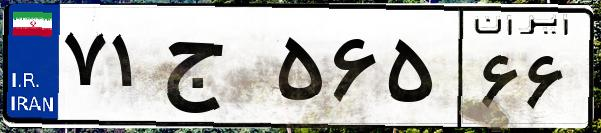1: (110, 28, 158, 98)
5: (270, 28, 330, 110), (385, 28, 445, 110)
6: (330, 28, 385, 110), (475, 38, 525, 113), (525, 38, 570, 115)
7: (57, 26, 110, 100)
ج: (158, 20, 270, 120)
